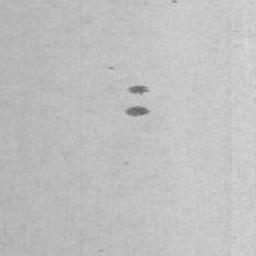Oil spot: (124, 105, 151, 118), (127, 83, 151, 96)
